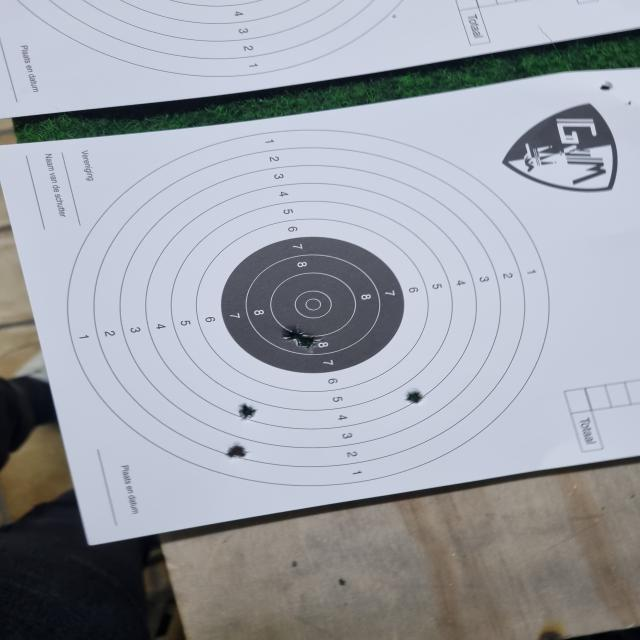2: (226, 445, 250, 460)
4: (237, 404, 258, 422), (404, 391, 426, 405)
9: (282, 328, 307, 343), (296, 336, 323, 349)
Target: (66, 128, 551, 488), (1, 0, 475, 78)
black_contour: (220, 236, 406, 374)
